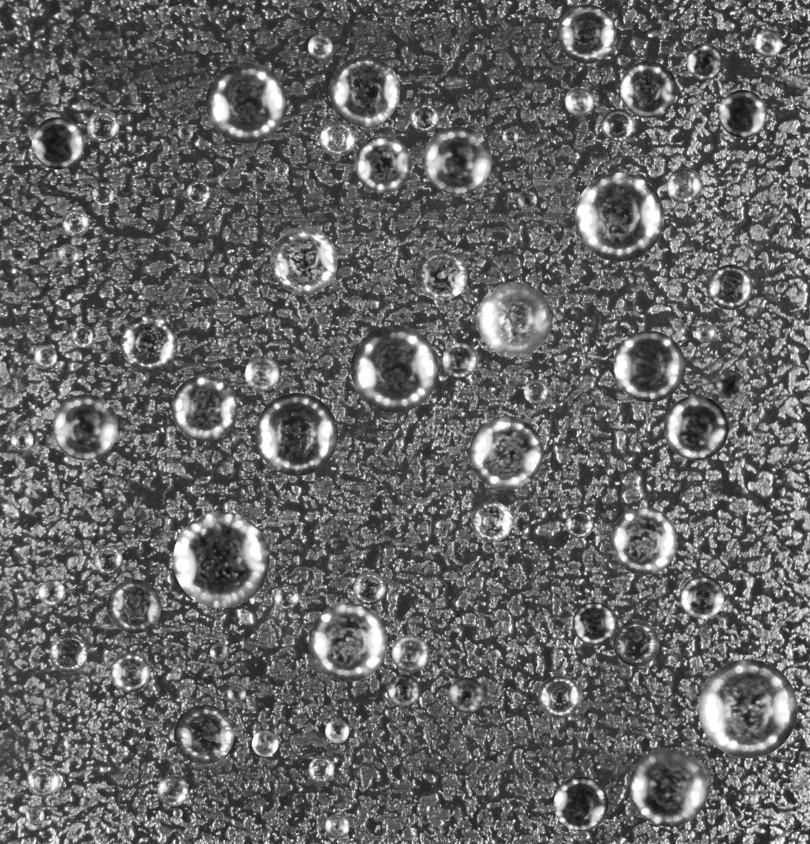Bubble: (698, 659, 797, 758), (173, 511, 269, 608), (575, 172, 664, 261), (350, 325, 438, 412), (255, 393, 338, 475), (205, 62, 286, 143), (629, 747, 708, 826), (308, 602, 387, 681), (477, 281, 552, 356), (469, 416, 543, 490), (614, 330, 685, 402), (329, 56, 400, 126), (423, 126, 491, 194), (610, 507, 678, 575), (270, 227, 337, 294), (171, 375, 237, 441), (52, 394, 118, 460), (664, 395, 728, 460), (174, 704, 234, 764), (557, 4, 616, 63), (620, 60, 677, 117), (120, 315, 177, 371), (354, 136, 411, 192), (553, 776, 608, 831), (107, 579, 161, 633), (415, 248, 467, 300), (31, 117, 83, 169), (718, 89, 766, 137), (613, 620, 659, 666), (707, 264, 752, 309), (681, 575, 724, 619), (572, 602, 615, 645), (538, 675, 580, 718), (471, 501, 512, 542), (110, 652, 150, 692), (391, 634, 429, 672), (49, 635, 87, 673), (686, 43, 723, 79), (448, 677, 484, 713), (666, 168, 702, 203), (320, 121, 355, 156), (442, 342, 477, 377), (245, 356, 279, 390), (387, 674, 420, 708), (601, 108, 634, 141), (26, 764, 59, 797), (86, 110, 119, 142), (353, 572, 385, 604), (157, 775, 188, 806), (565, 86, 594, 116), (410, 103, 439, 132), (93, 545, 122, 574), (565, 510, 593, 538), (716, 370, 744, 398), (754, 29, 782, 57), (62, 209, 89, 236), (251, 730, 278, 756), (38, 579, 64, 605), (308, 756, 334, 782), (307, 34, 332, 59), (324, 814, 349, 839), (523, 379, 548, 403), (186, 180, 210, 205), (325, 719, 349, 743), (274, 585, 298, 609), (33, 345, 56, 368), (10, 429, 33, 452), (92, 182, 114, 205), (70, 325, 93, 347), (57, 243, 79, 265), (695, 323, 715, 343), (227, 683, 246, 702), (25, 806, 44, 825), (518, 190, 537, 209), (209, 643, 228, 661), (502, 128, 518, 144), (177, 124, 193, 140), (275, 162, 288, 175), (172, 808, 182, 818), (689, 204, 698, 214)
